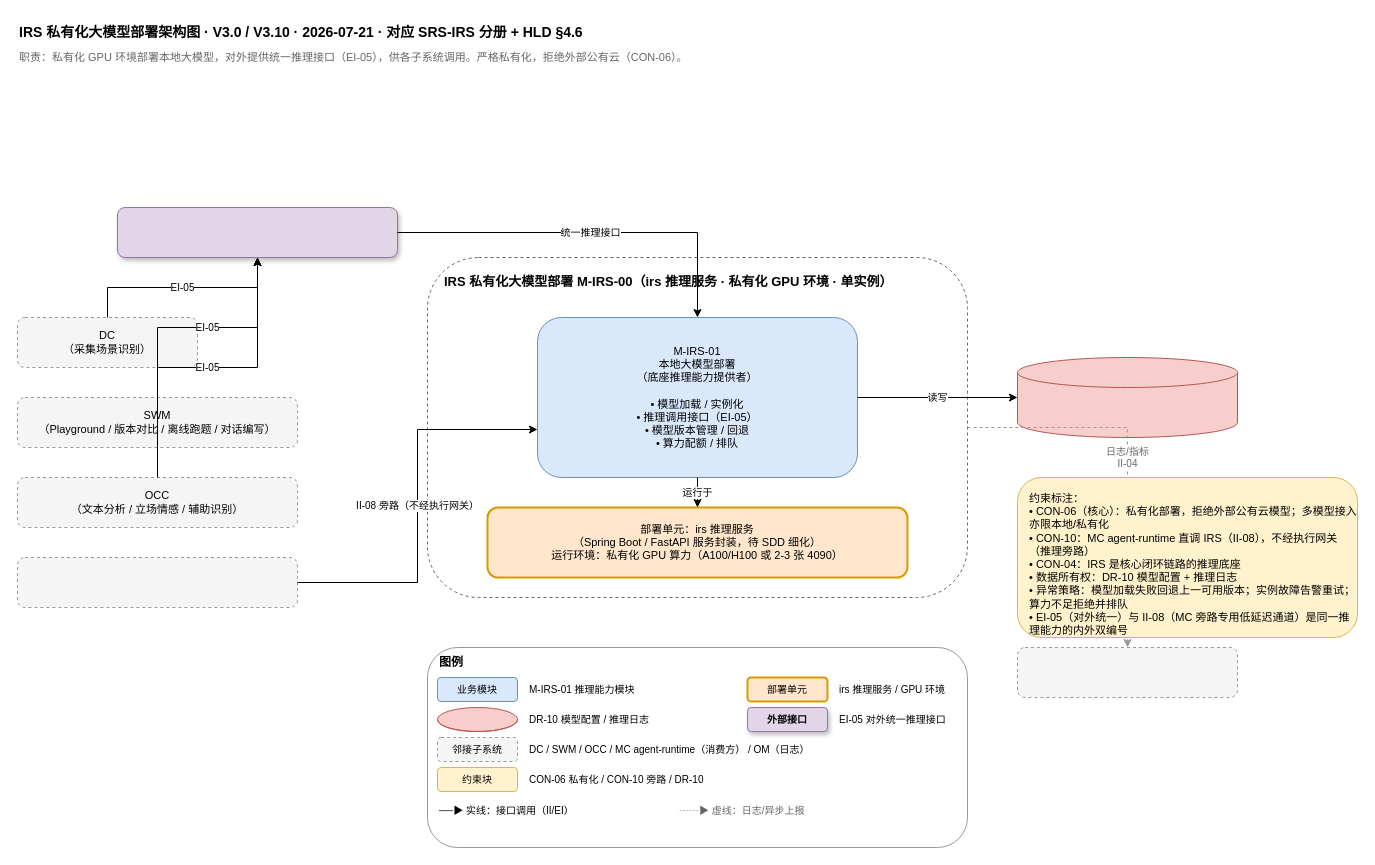
Image size: 1375x865. Some labels were removed from this diagram. Here are the shapes that lost their labels. From the top down, the centre of each, then its label:
At (258,233): "EI-05 本地大模型推理（对外统一接口 · 出）".
At (1127,397): "DR-10 本地大模型数据 模型配置 + 推理调用日志".
At (157,582): "MC agent-runtime （视觉推理 / 动作规划，II-08 旁路，CON-10）".
At (1127,672): "OM 运维监控 （日志指标汇聚）".
At (477,719): "数据".
